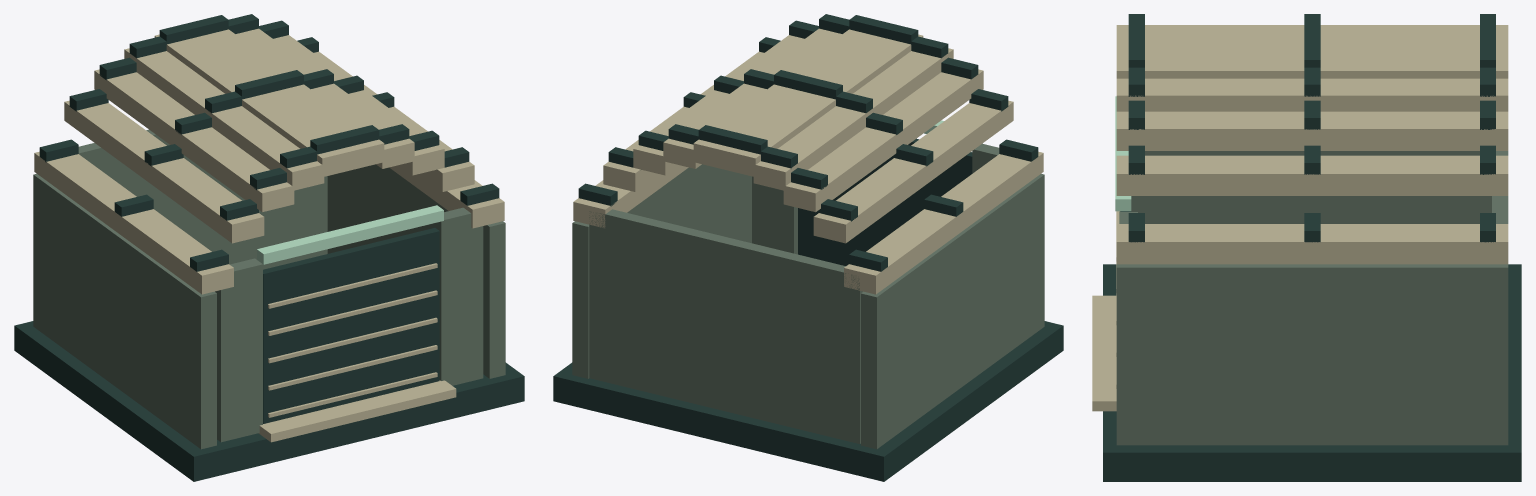
File: hangar-intact.glb
3 views of the same model, side by side, from view 1: azimuth 30°, elevation 25°; view 2: azimuth 150°, elevation 25°; view 3: azimuth 270°, elevation 25° (orthographic). The views are drawn at different scales.
Parts seen in each view (by area): view 1: hangar-intact; view 2: hangar-intact; view 3: hangar-intact.
Boxes of the visible parts, box(x1,y1,x2,y2) form: hangar-intact: box(14, 14, 524, 481); hangar-intact: box(553, 14, 1063, 481); hangar-intact: box(1092, 14, 1521, 481).
Size of the model in its own units: 3.3 by 2.82 by 3.18.
